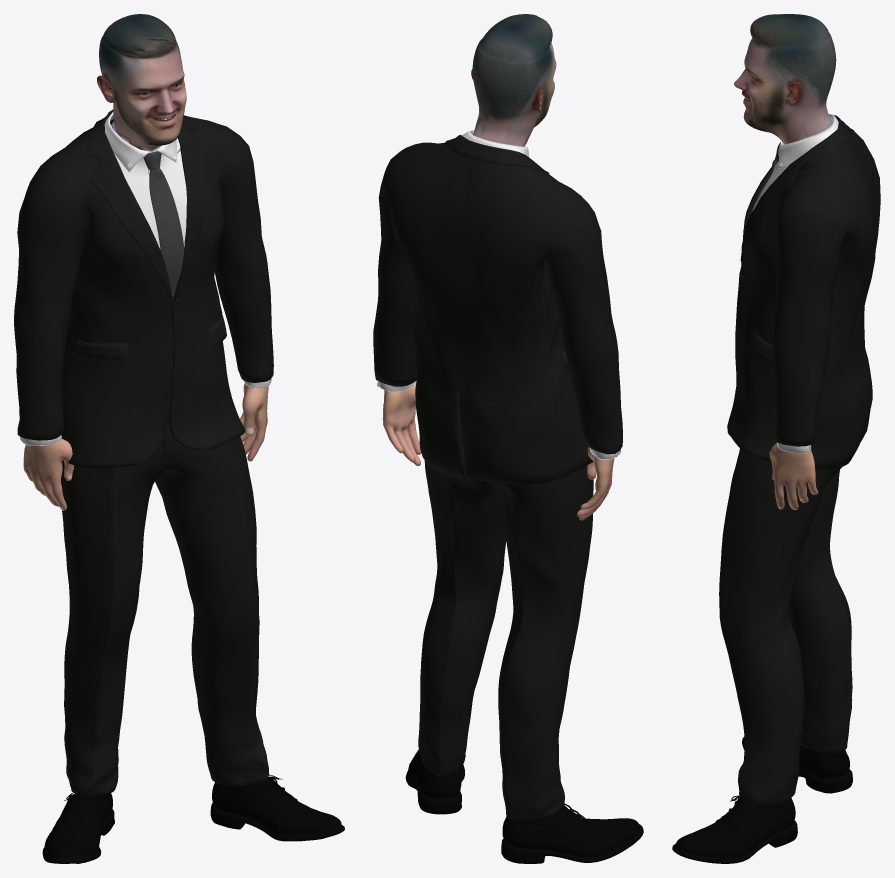
File: Character.glb
3 renders of one model, left to right at view 1: azimuth 30°, elevation 25°; view 2: azimuth 150°, elevation 25°; view 3: azimuth 270°, elevation 25°, orthographic. The views are drawn at different scales.
Visible parts, largest first — view 1: Object_15.001, node_0.002, Object_6.001; view 2: Object_15.001, node_0.002, Object_6.001; view 3: Object_15.001, node_0.002, Object_6.001.
Part boxes in pixels (<box>): Object_15.001: <box>14,109,344,863</box>; node_0.002: <box>97,14,186,152</box>; Object_6.001: <box>23,383,268,510</box>; Object_15.001: <box>373,129,643,863</box>; node_0.002: <box>471,14,556,146</box>; Object_6.001: <box>382,381,614,520</box>; Object_15.001: <box>672,113,880,863</box>; node_0.002: <box>734,14,836,144</box>; Object_6.001: <box>769,443,818,509</box>.
Bounding box in the file's own units: 0.5985 × 1.78 × 0.4305.
3 materials, 3 textured.
